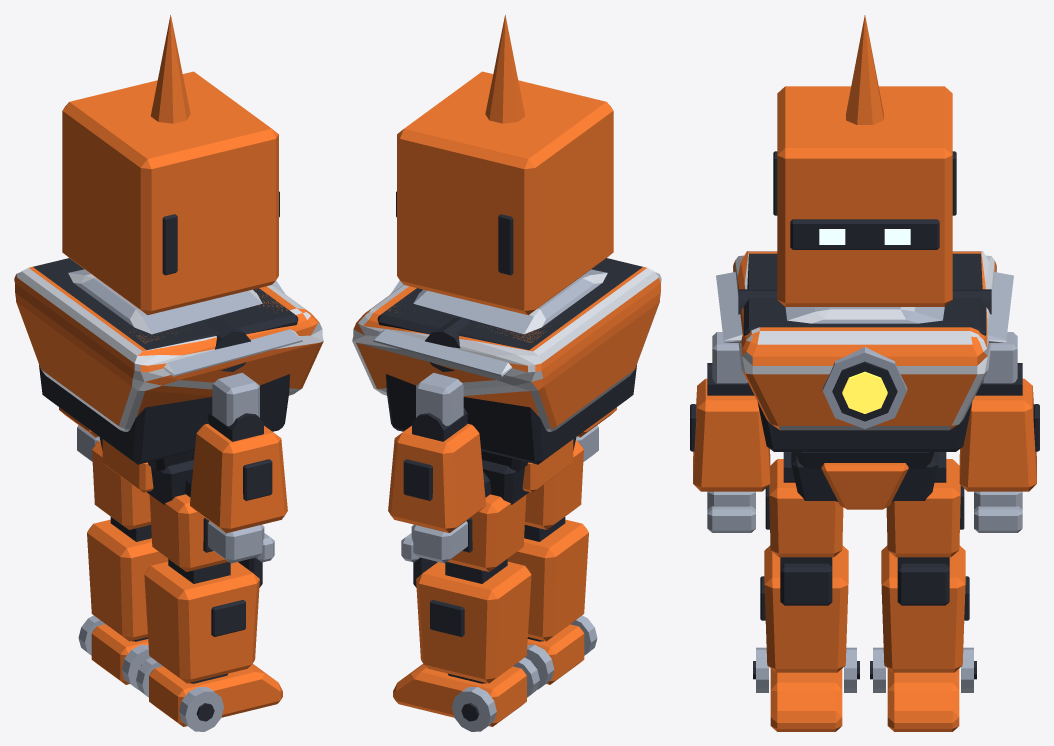
The model's file is light.glb.
3 views of the same model, side by side, from view 1: azimuth 30°, elevation 25°; view 2: azimuth 150°, elevation 25°; view 3: azimuth 270°, elevation 25° (orthographic).
Visible parts, largest first — view 1: Head, Chest_heavy, Leg_R, Leg_L, Forearm_R, UpperArm_R, Hips, Forearm_L; view 2: Head, Chest_heavy, Leg_L, Leg_R, Forearm_L, UpperArm_L, Hips, Forearm_R; view 3: Head, Chest_heavy, Leg_L, Leg_R, Forearm_L, Forearm_R, Hips, Chest_standard, UpperArm_R, UpperArm_L.
Part boxes in pixels (bbox=[...]): Head: bbox=[62, 15, 279, 315]; Chest_heavy: bbox=[14, 258, 323, 471]; Leg_R: bbox=[136, 471, 282, 731]; Leg_L: bbox=[78, 440, 168, 689]; Forearm_R: bbox=[190, 407, 287, 563]; UpperArm_R: bbox=[205, 317, 259, 426]; Hips: bbox=[99, 437, 193, 504]; Forearm_L: bbox=[59, 407, 99, 461]; Head: bbox=[396, 15, 613, 315]; Chest_heavy: bbox=[352, 258, 661, 471]; Leg_L: bbox=[393, 471, 539, 731]; Leg_R: bbox=[507, 440, 597, 689]; Forearm_L: bbox=[388, 407, 485, 563]; UpperArm_L: bbox=[416, 317, 470, 426]; Hips: bbox=[482, 437, 576, 504]; Forearm_R: bbox=[576, 407, 616, 461]; Head: bbox=[773, 15, 956, 306]; Chest_heavy: bbox=[716, 251, 1013, 469]; Leg_L: bbox=[870, 452, 976, 731]; Leg_R: bbox=[753, 452, 859, 731]; Forearm_L: bbox=[959, 363, 1039, 532]; Forearm_R: bbox=[690, 363, 770, 532]; Hips: bbox=[791, 452, 938, 509]; Chest_standard: bbox=[764, 258, 965, 350]; UpperArm_R: bbox=[712, 289, 777, 383]; UpperArm_L: bbox=[952, 289, 1017, 383].
Size of the model in its own units: 0.7327 by 2.33 by 1.08.
